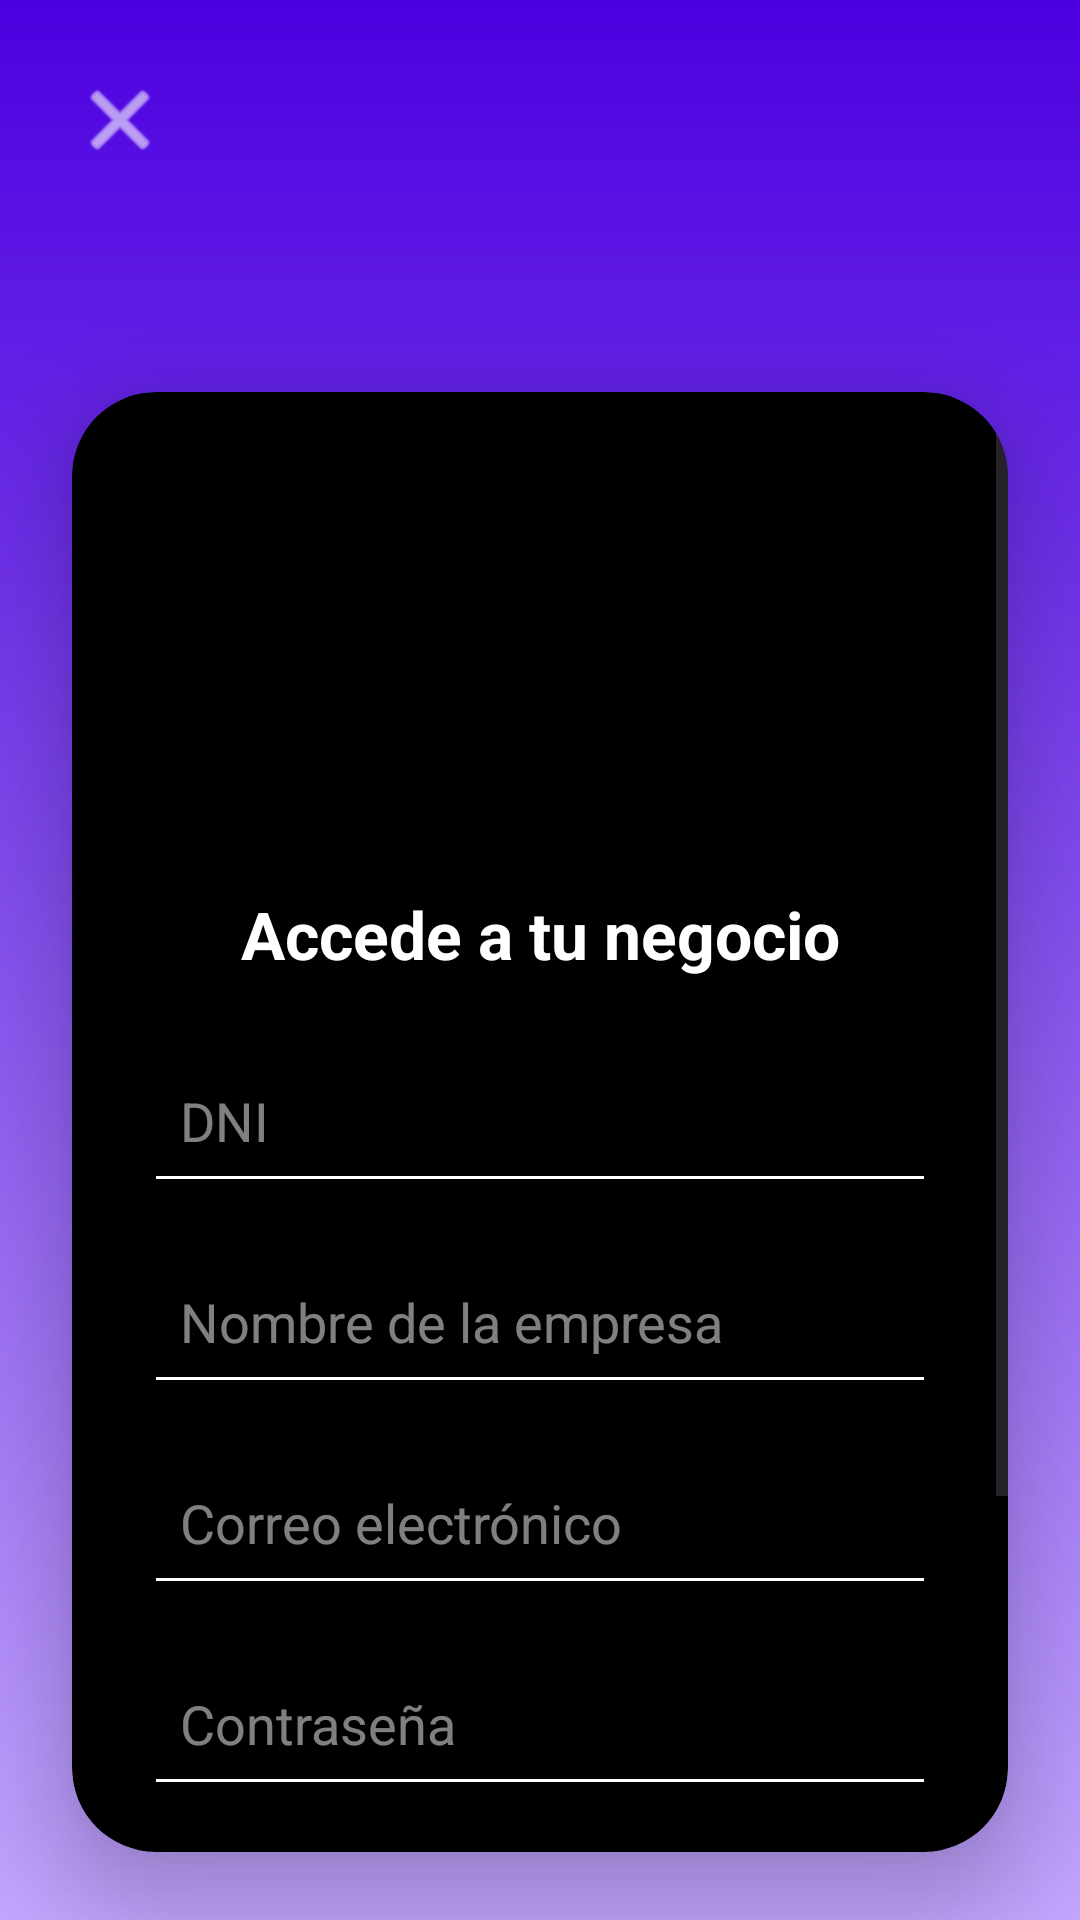

Where icons sit on this 1080 x 1920 app screen, as bbox=[x1, y1, x2, y2]:
close clear cancel: bbox=[90, 90, 150, 150]
